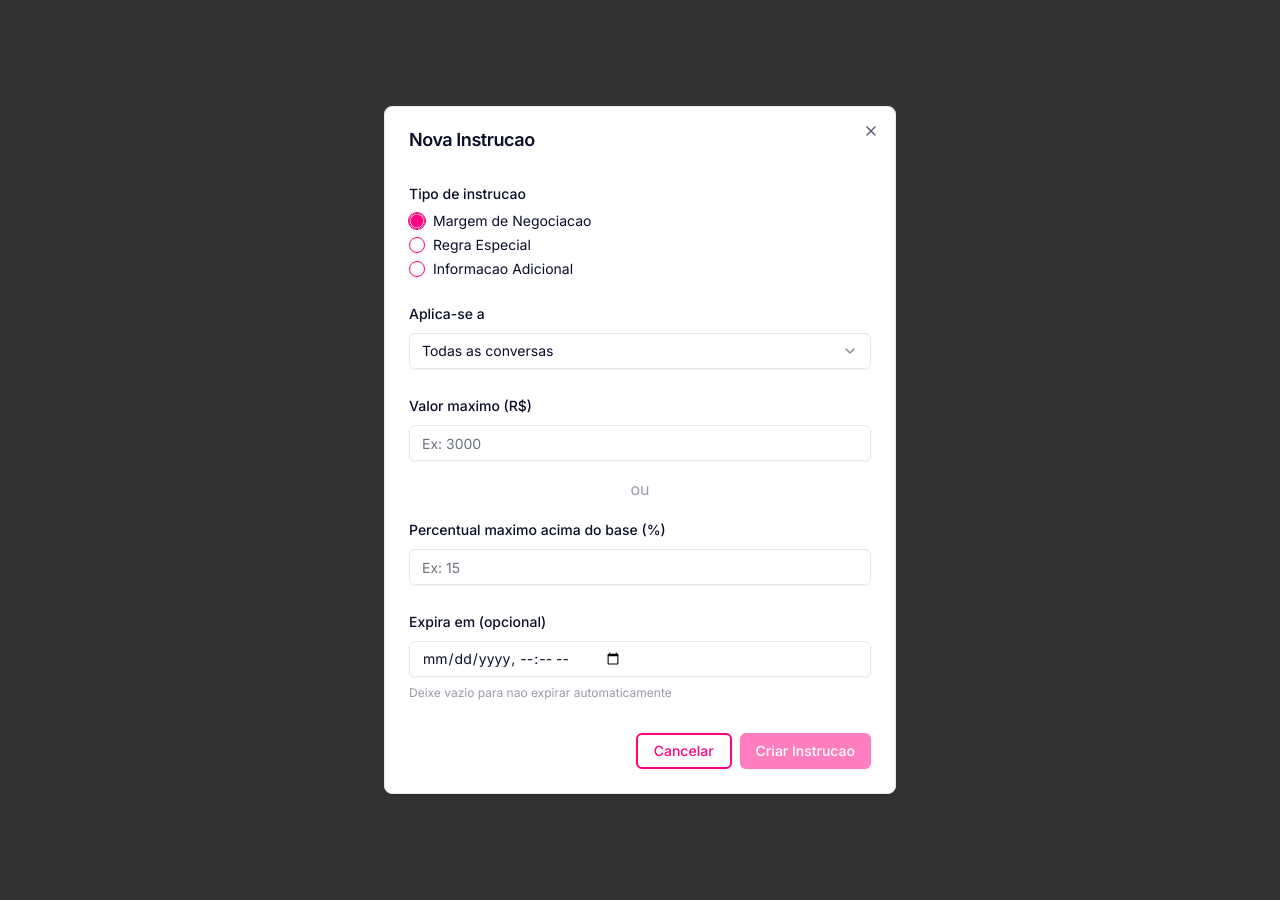
Test: NovaInstrucaoDialog › deve mostrar campo de info quando tipo info_adicional selecionado
Expected: the text "Margem de Negociacao" is shown, [433,214,592,228]
# Selecionar info adicional
Click the radio button named "Informacao Adicional" next to "Informacao Adicional".
click(417, 269)  # box [409,261,425,277]
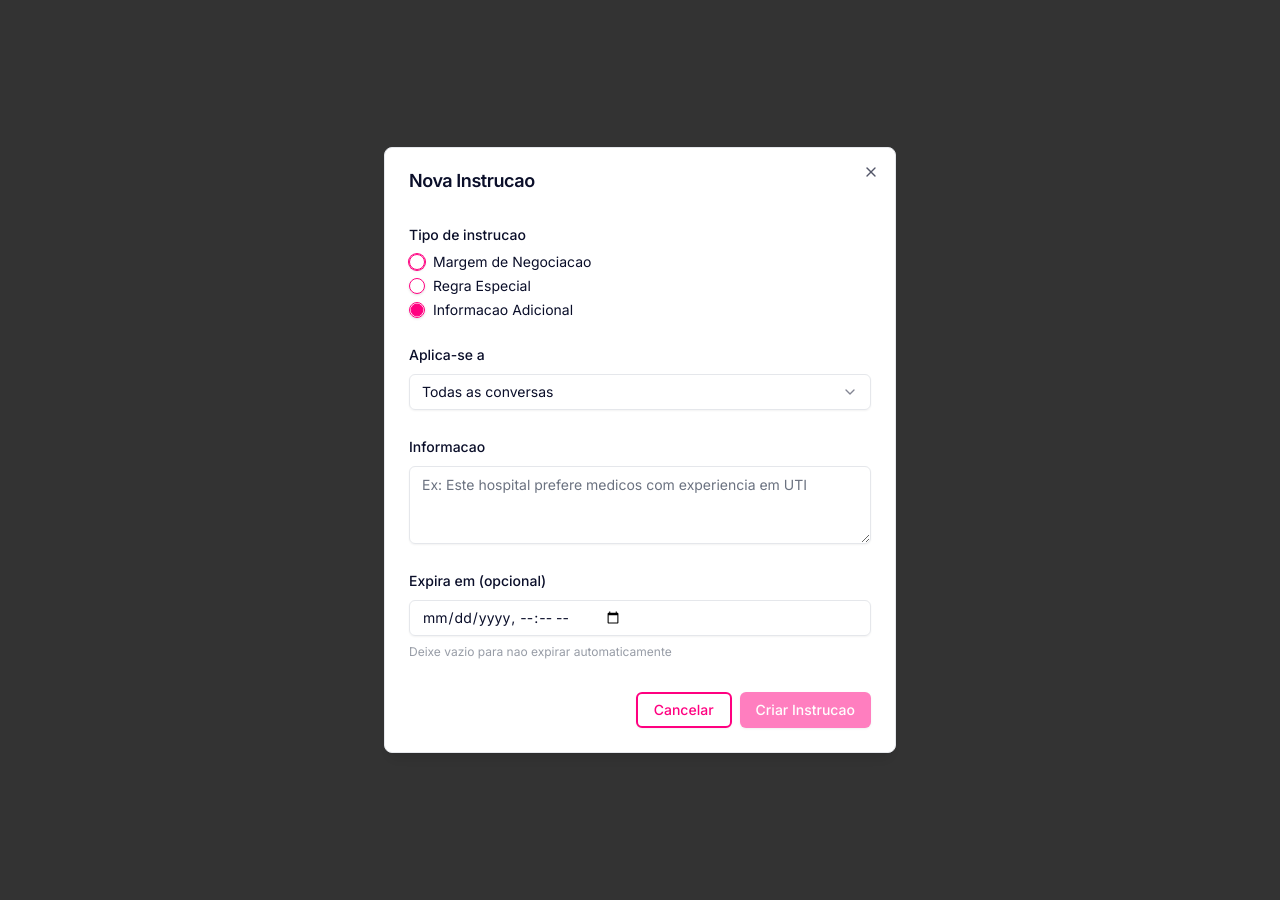
Expected: the text "Informacao" is shown, [409,438,485,455]
